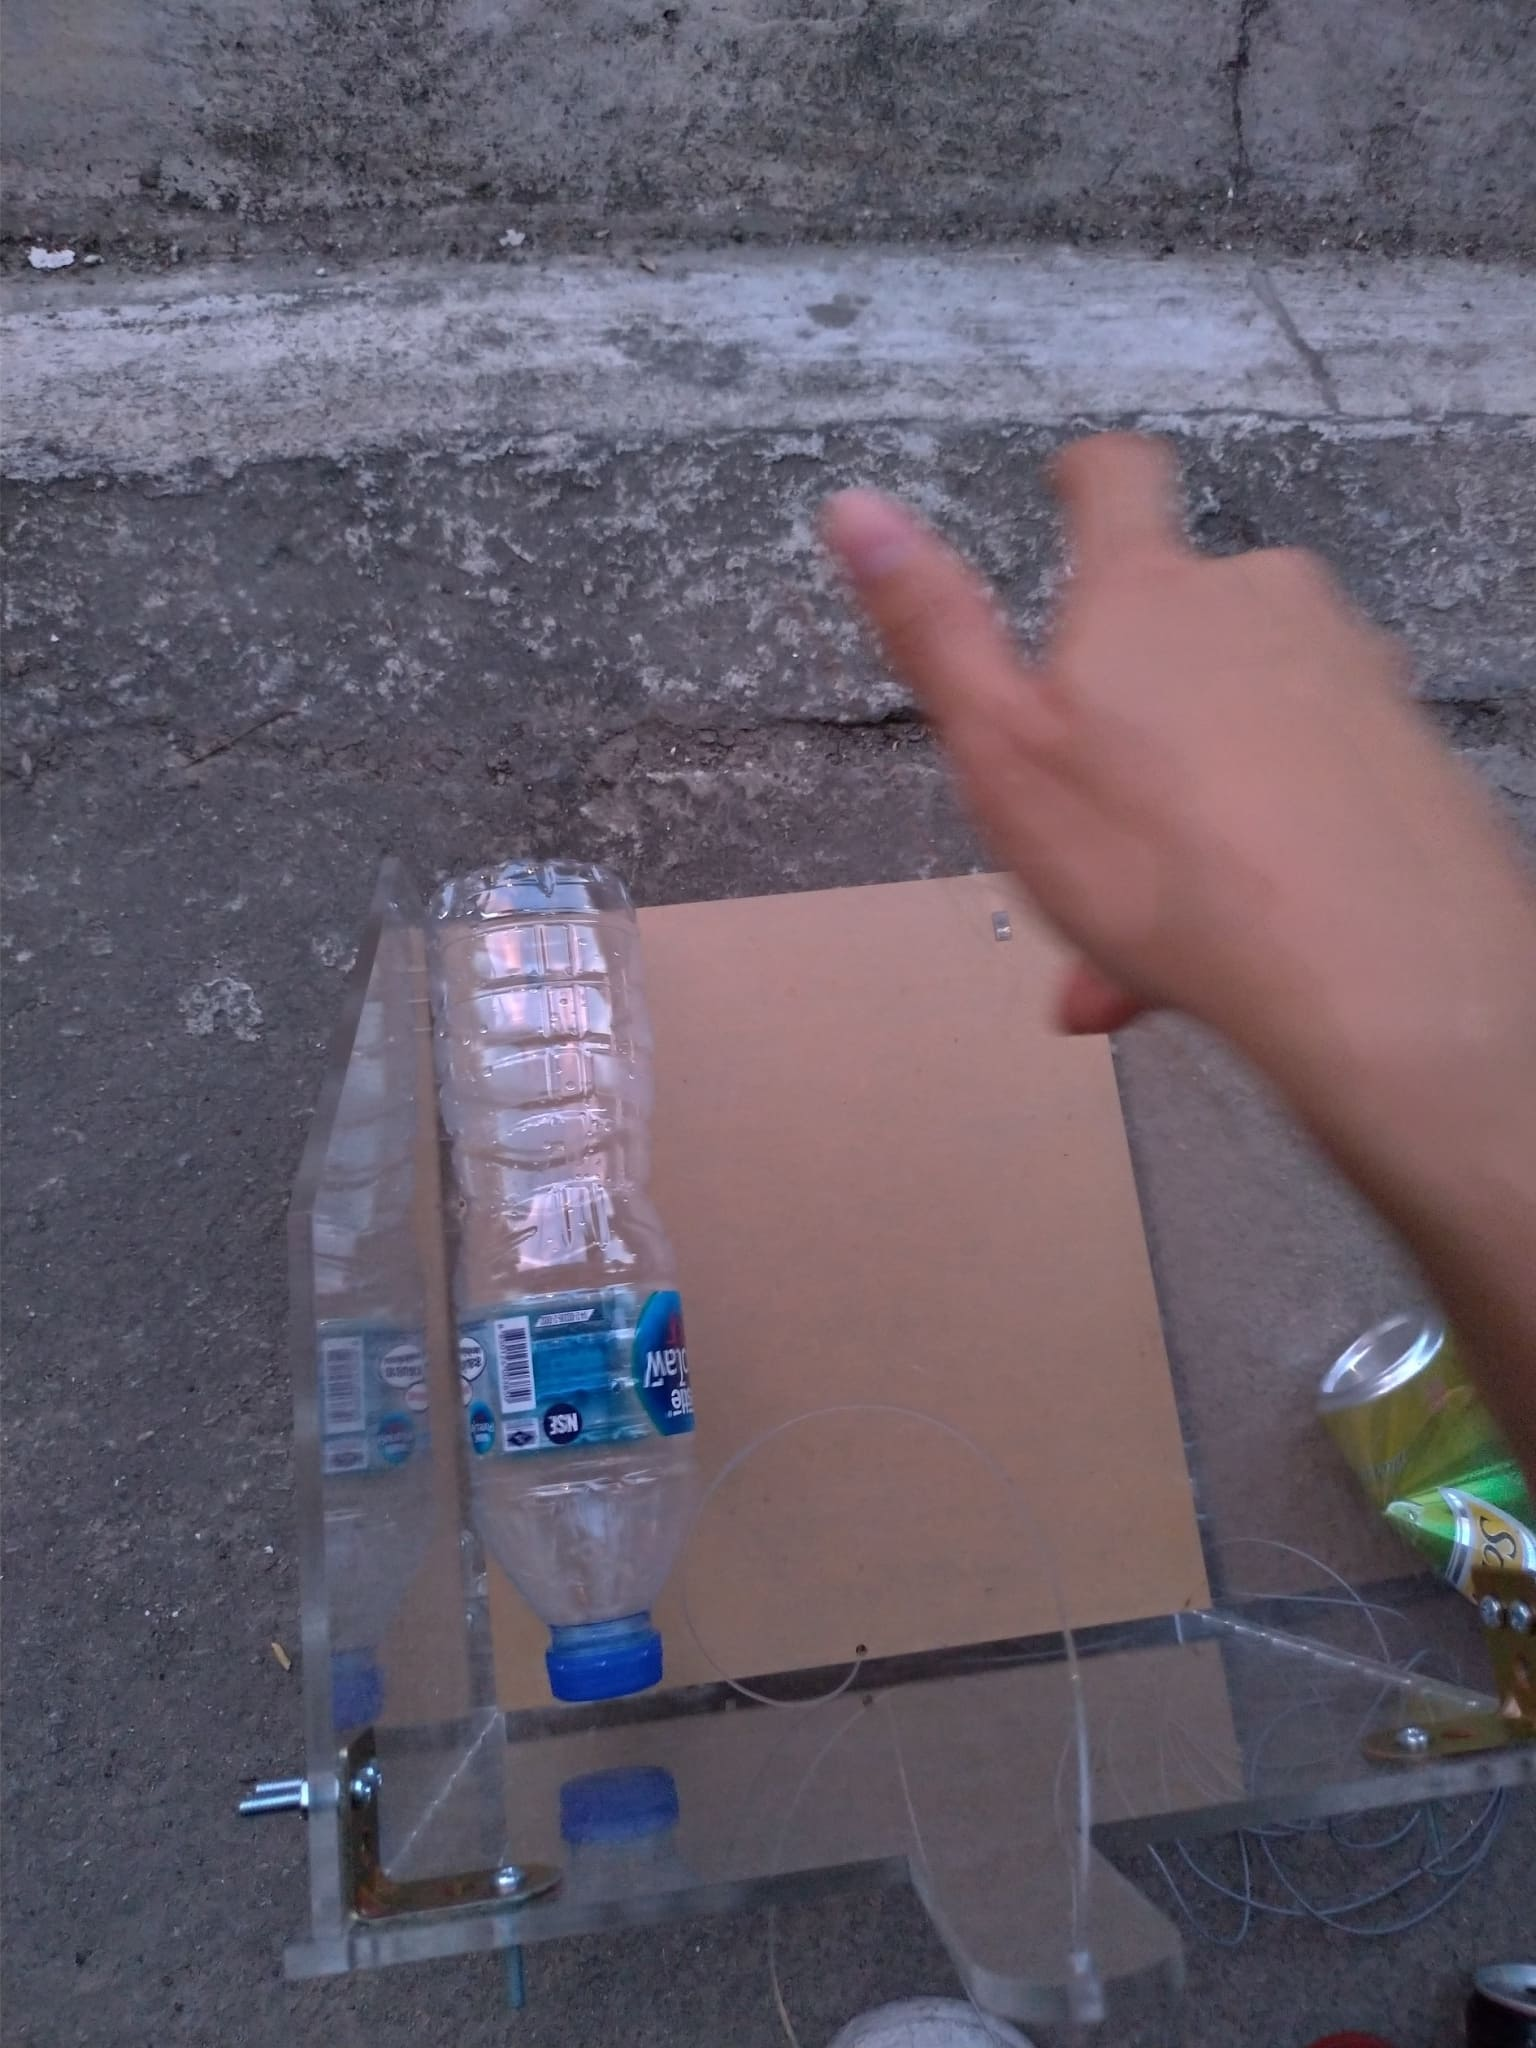AlCan: (1318, 1313, 1536, 1627)
PlasticBottle: (428, 855, 695, 1700)
